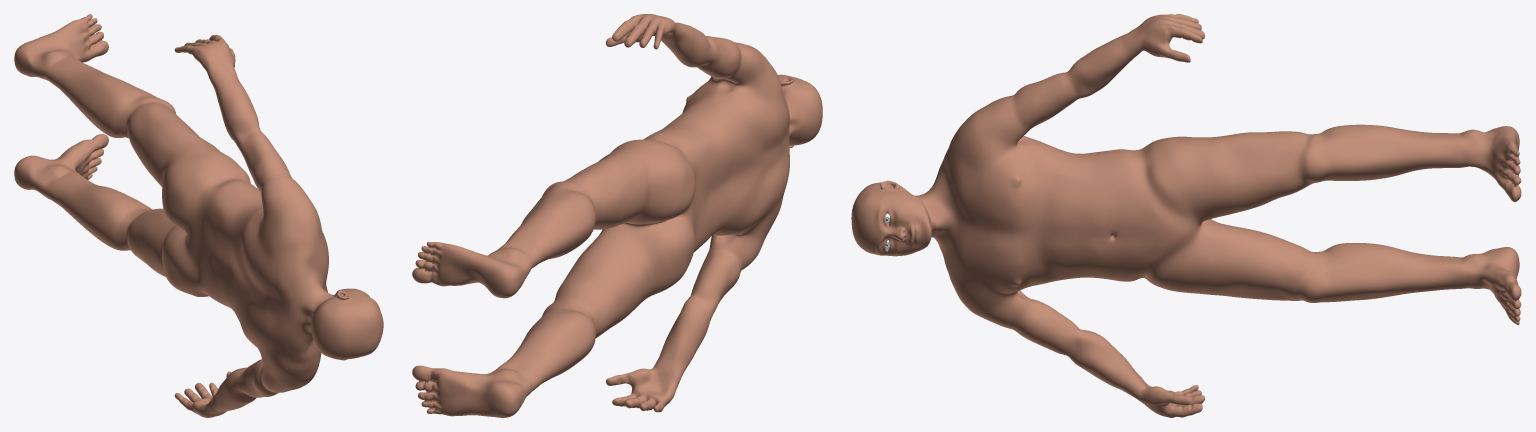
The model's file is Model_FovaneEditDecimated.glb.
3 views of the same model, side by side, from view 1: azimuth 30°, elevation 25°; view 2: azimuth 150°, elevation 25°; view 3: azimuth 270°, elevation 25° (orthographic). The views are drawn at different scales.
Visible parts, largest first — view 1: Upper; view 2: Upper; view 3: Upper.
Boxes of the visible parts, <box> form: Upper: <box>14,14,383,417</box>; Upper: <box>412,14,822,417</box>; Upper: <box>851,14,1521,417</box>.
Size of the model in its own units: 0.3107 by 1.09 by 1.68.
